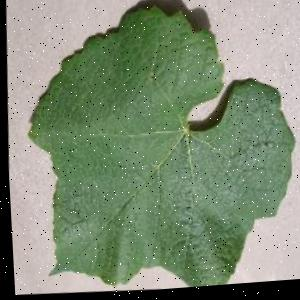Folha: (11, 0, 300, 299)
